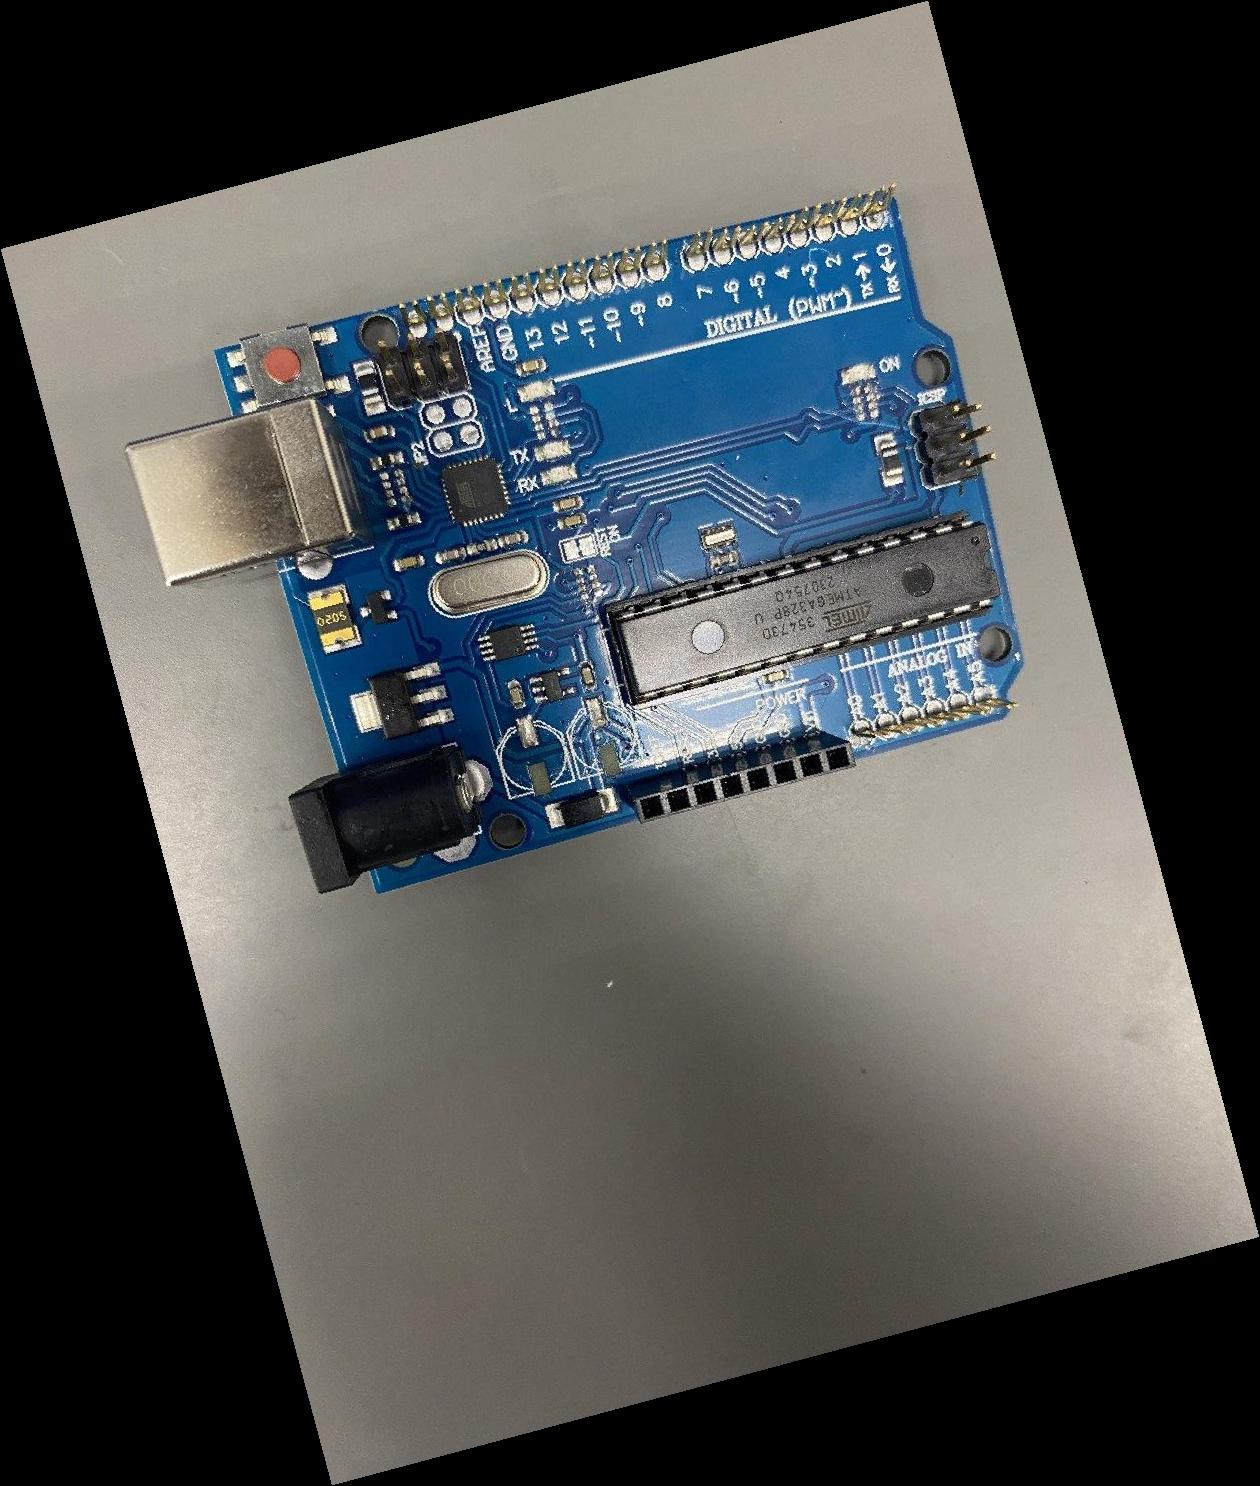ATmega328 chip: (604, 511, 1001, 711)
Arduino board: (124, 184, 1025, 895)
USB: (124, 396, 375, 587)
pins: (627, 730, 856, 822)
